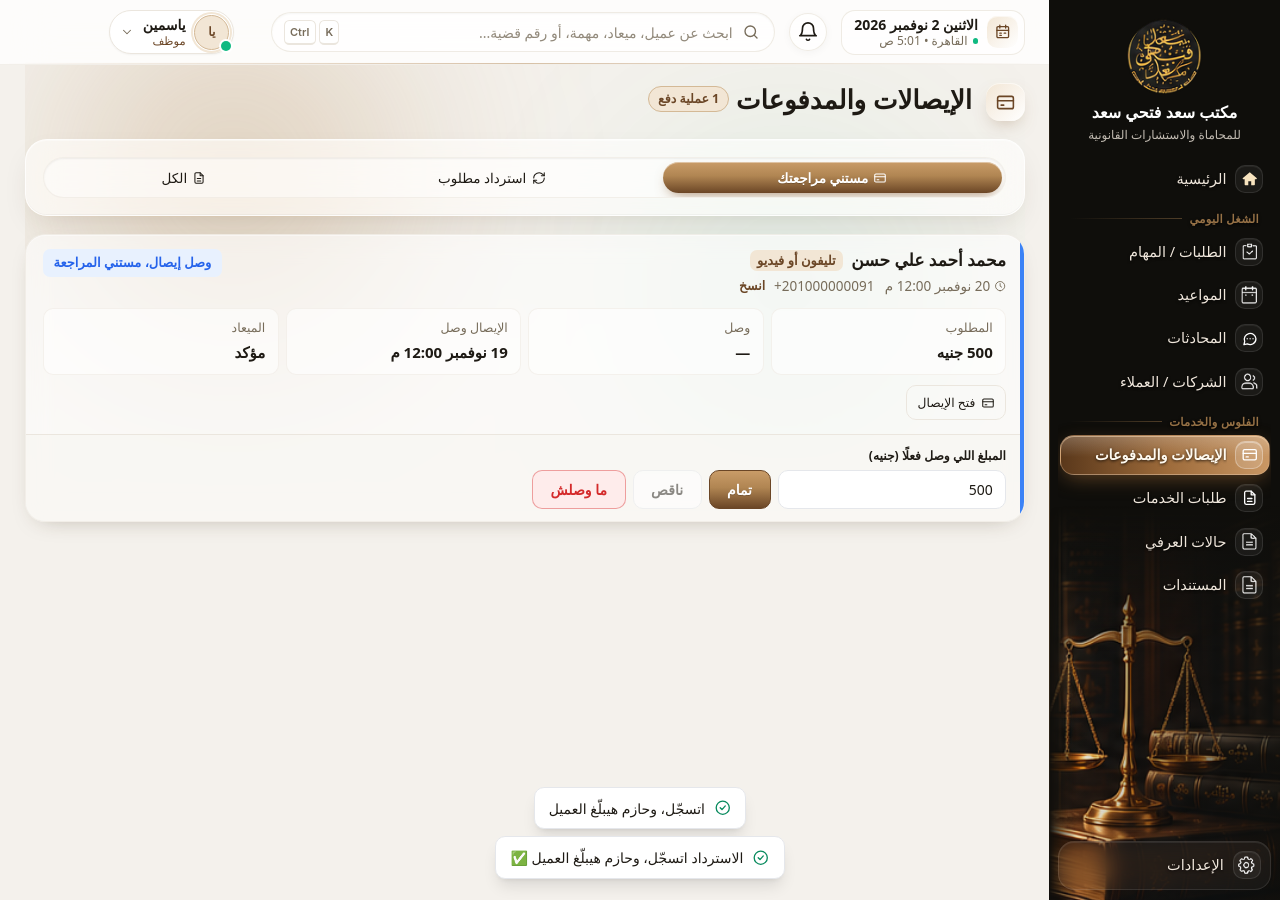
TASK 09 payments › a decimal amount is refused (whole pounds only), and the header counts payments
Check: the text "1 عملية دفع" is shown, box [648, 86, 729, 112]
Replace the text in the number field labelled "المبلغ اللي وصل فعلًا (جنيه)" with "500.5" at x=892, y=489, box [778, 470, 1006, 509]
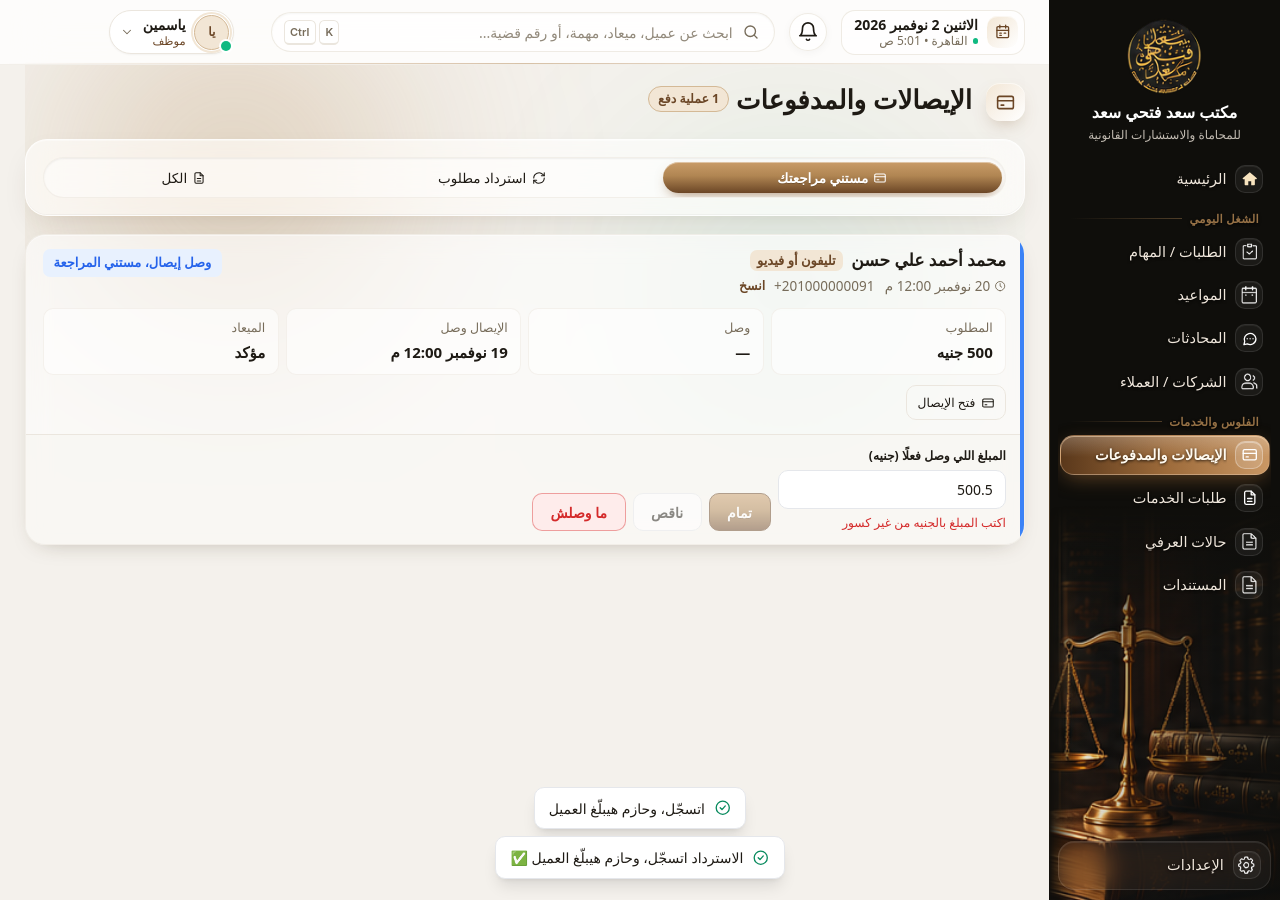
Check: the button "ناقص" is disabled, box [632, 493, 702, 532]
Check: the button "تمام" is disabled, box [709, 493, 770, 532]
Check: the text "اكتب المبلغ بالجنيه من غير كسور" is shown, box [842, 514, 1006, 531]
